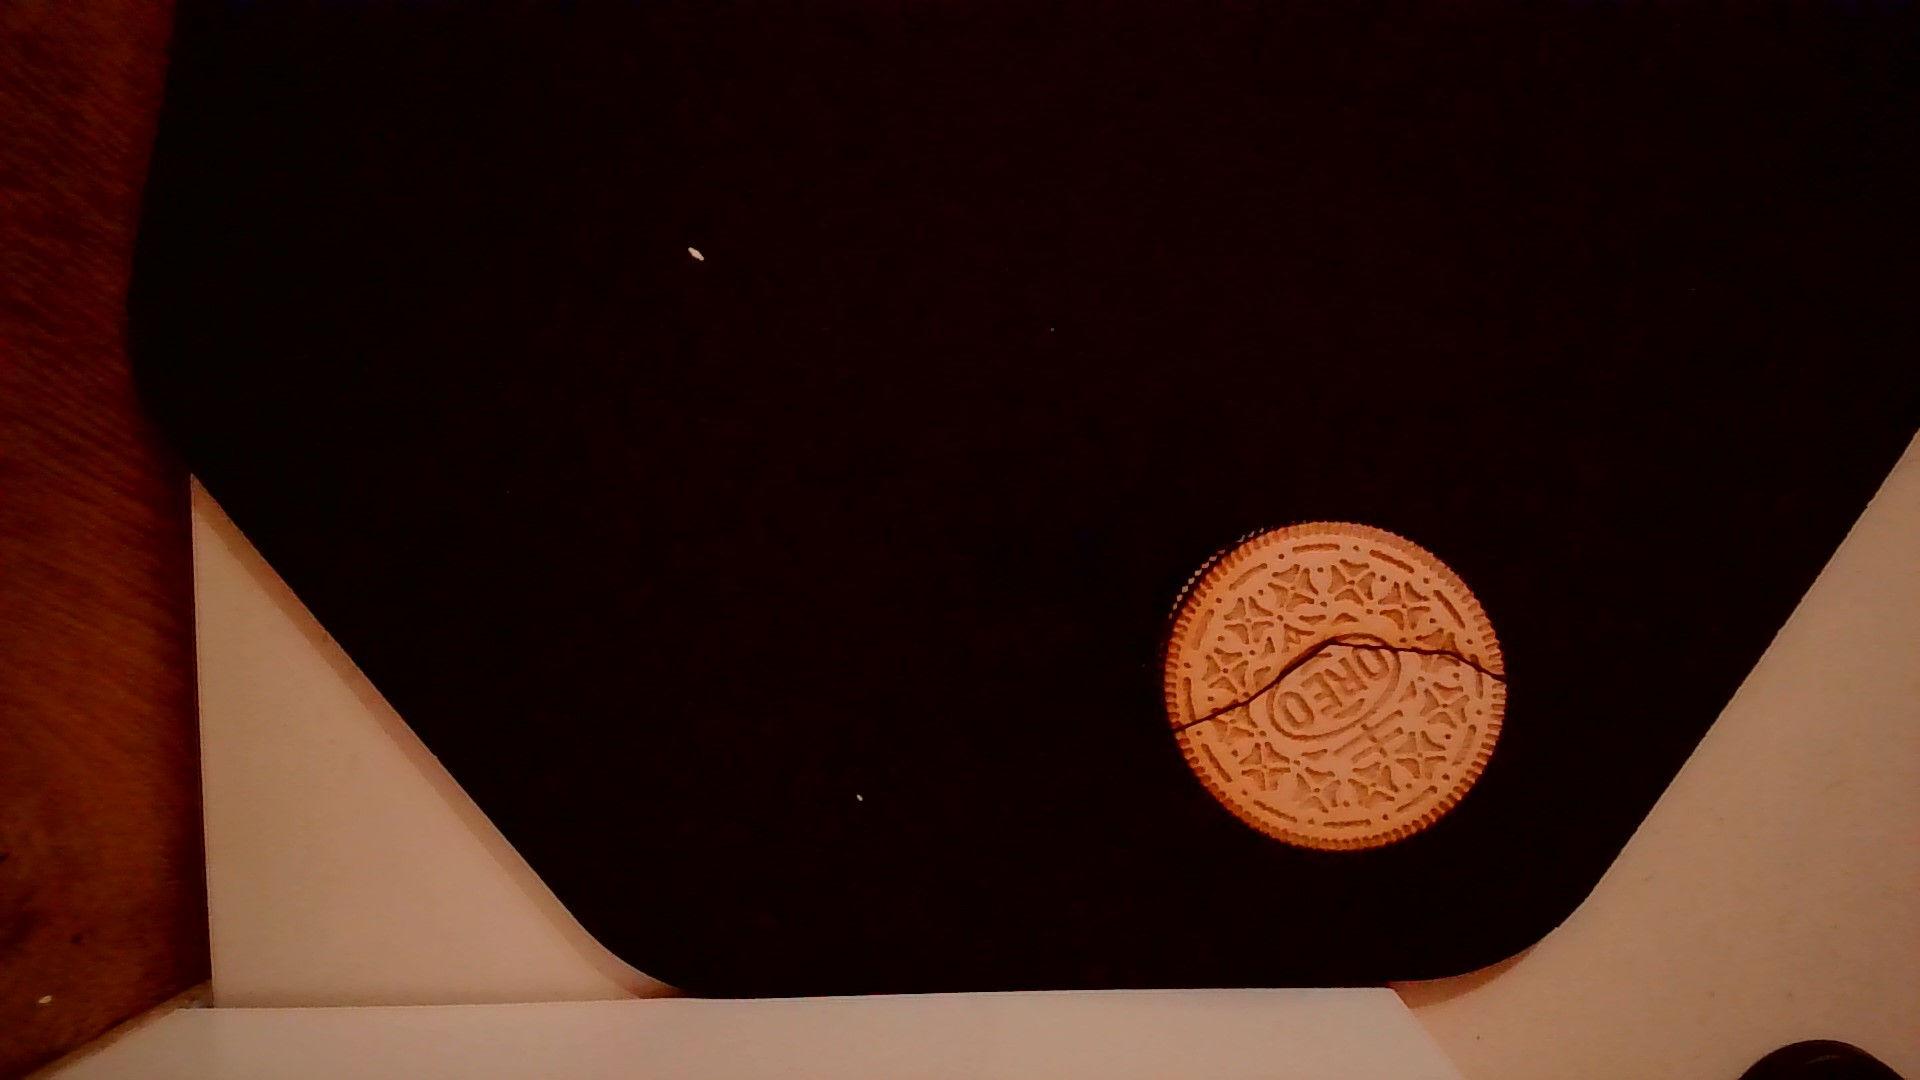Fissure: (1159, 632, 1516, 745)
Oréo: (1153, 512, 1511, 861)
